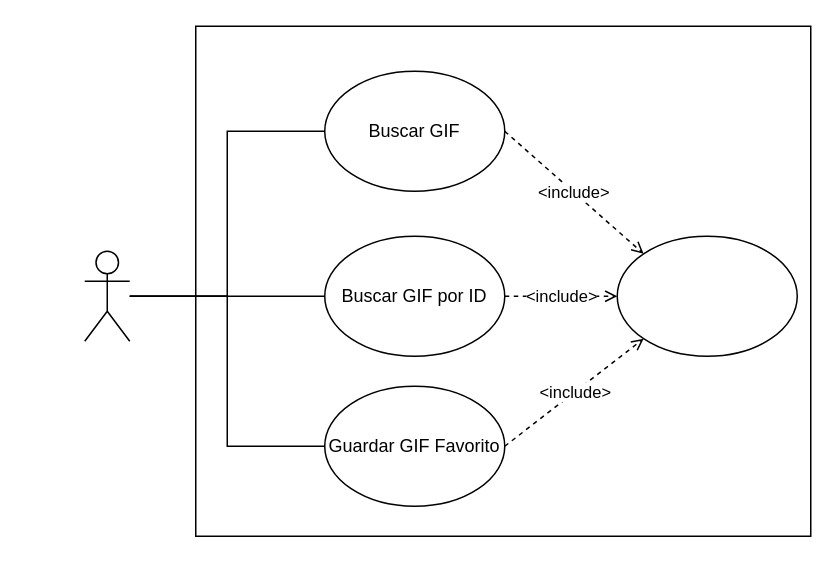
Image size: 837x563. Some labels were removed from this diagram. Here are the shapes that lost their labels. From the top down, the centre of each, then its label:
(106,295): Usuario (consumidor de API)
(706,295): Iniciar Sesión
